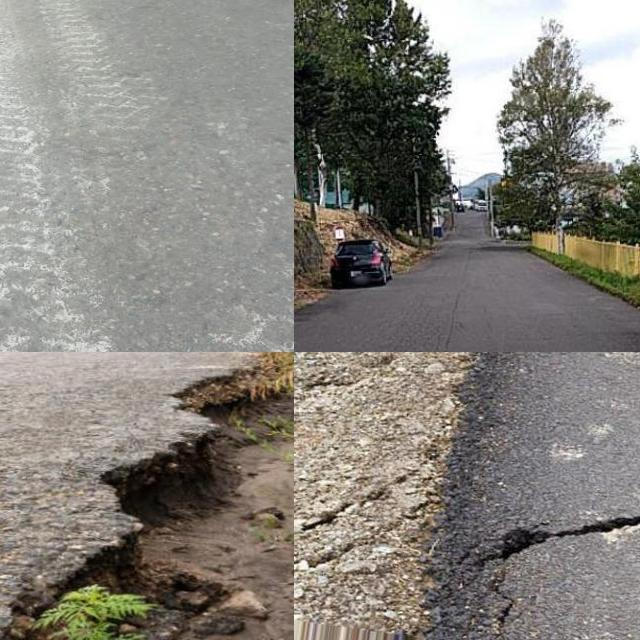Pinggir: (0, 352, 294, 640), (416, 352, 640, 587)
